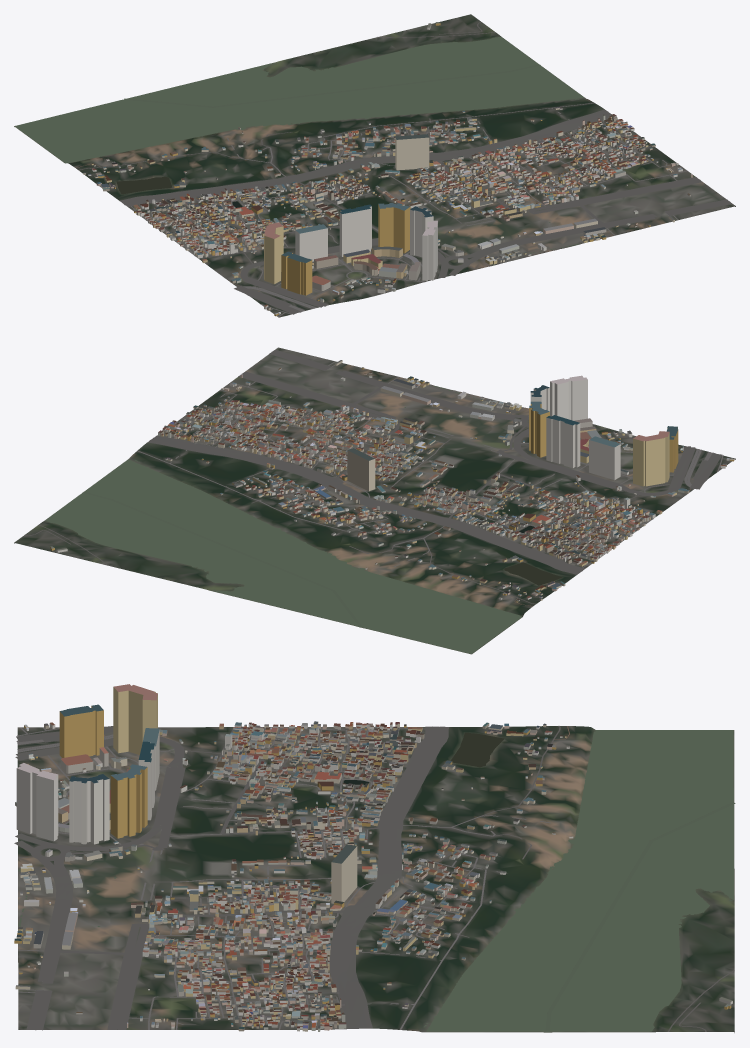
3 views of the same model, one above another, from view 1: azimuth 30°, elevation 25°; view 2: azimuth 150°, elevation 25°; view 3: azimuth 270°, elevation 25° (orthographic). The views are drawn at different scales.
Parts seen in each view (by area): view 1: ground, buildings, water, roads; view 2: ground, buildings, water, roads; view 3: ground, buildings, water, roads.
Boxes of the visible parts, x1,y1,x2,y2 form: ground: (14,14,735,317); buildings: (83,22,692,316); water: (15,37,583,265); roads: (76,22,732,316); ground: (14,347,735,654); buildings: (50,360,734,602); water: (45,386,562,653); roads: (24,349,734,606); ground: (17,726,734,1032); buildings: (14,684,732,1031); water: (18,730,735,1032); roads: (14,726,734,1031).
Bounding box in the file's own units: 1421 × 141 × 1413.
